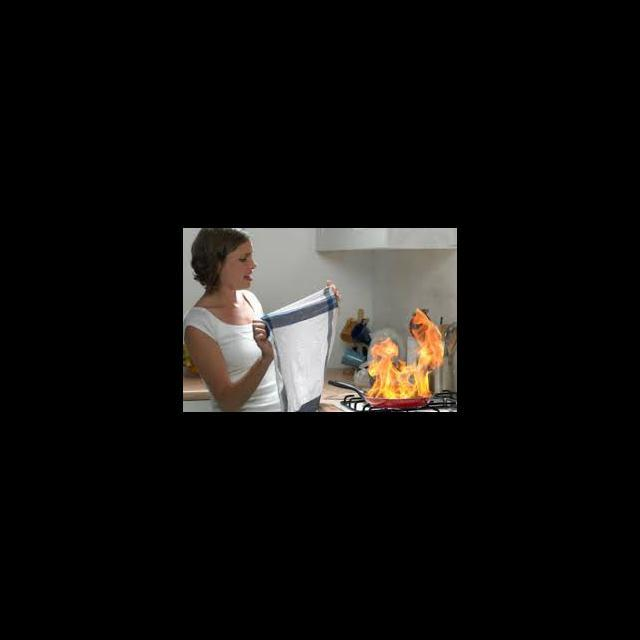Fire: (363, 309, 445, 401)
